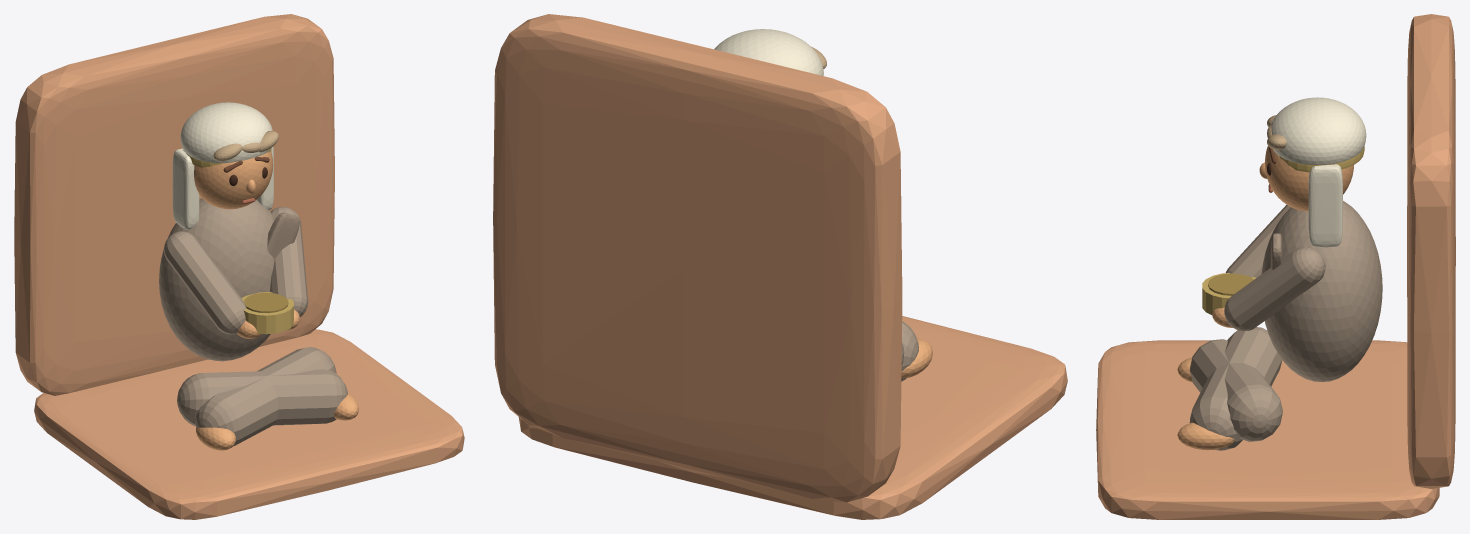
Rendered from beggar.glb.
3 renders of one model, left to right at view 1: azimuth 30°, elevation 25°; view 2: azimuth 150°, elevation 25°; view 3: azimuth 270°, elevation 25°, orthographic. The views are drawn at different scales.
Parts seen in each view (by area): view 1: Wall, Floor, Torso, Leg_L, Leg_R, Sleeve_R, Scarf_Top, Head, Sleeve_L, Scarf_Side_R, Bowl, Sash (+2 smaller); view 2: Wall, Floor, Scarf_Top; view 3: Floor, Wall, Torso, Scarf_Top, Leg_R, Sleeve_L, Leg_L, Scarf_Side_L, Head, Sleeve_R, Foot_L, Bowl_In (+2 smaller).
Boxes of the visible parts, x1,y1,x2,y2 form: Wall: [14, 14, 334, 395]; Floor: [34, 329, 464, 519]; Torso: [159, 198, 274, 361]; Leg_L: [177, 369, 347, 426]; Leg_R: [195, 347, 336, 445]; Sleeve_R: [164, 231, 246, 334]; Scarf_Top: [180, 102, 272, 163]; Head: [194, 151, 273, 209]; Sleeve_L: [270, 206, 308, 316]; Scarf_Side_R: [172, 148, 199, 230]; Bowl: [241, 292, 293, 334]; Sash: [267, 212, 299, 259]; Wall: [493, 14, 902, 502]; Floor: [518, 316, 1067, 519]; Scarf_Top: [714, 29, 823, 75]; Floor: [1096, 340, 1439, 519]; Wall: [1407, 14, 1455, 488]; Torso: [1261, 201, 1382, 381]; Scarf_Top: [1271, 97, 1366, 164]; Leg_R: [1190, 339, 1282, 441]; Sleeve_L: [1224, 247, 1325, 330]; Leg_L: [1189, 327, 1282, 450]; Scarf_Side_L: [1308, 164, 1342, 247]; Head: [1265, 146, 1353, 211]; Sleeve_R: [1225, 204, 1290, 277]; Foot_L: [1177, 422, 1234, 450]; Bowl_In: [1208, 273, 1253, 295].
Size of the model in its own units: 1.15 by 1.21 by 1.07.
